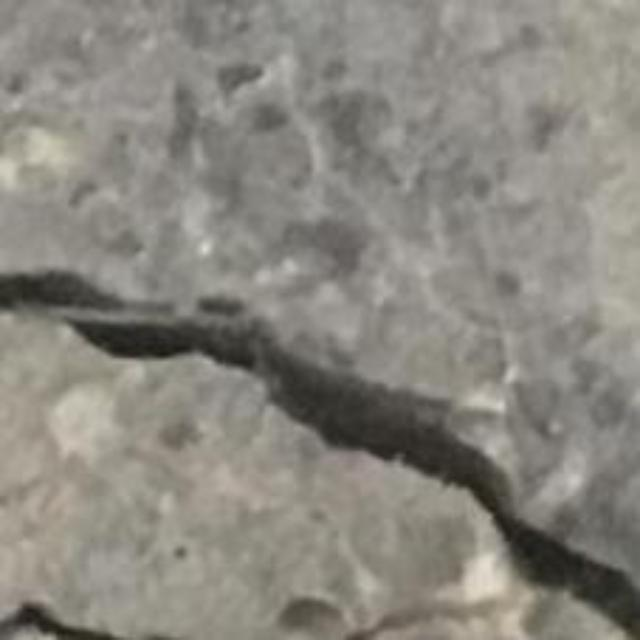crack: (0, 274, 639, 637)
